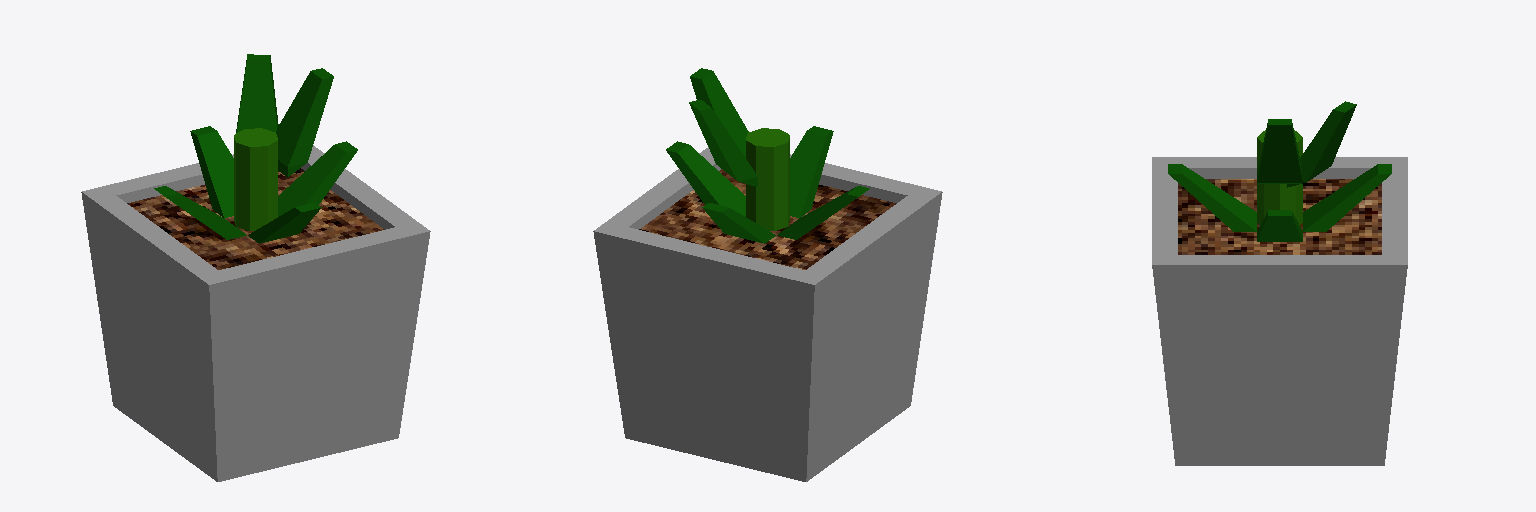
3 views of the same model, side by side, from view 1: azimuth 30°, elevation 25°; view 2: azimuth 150°, elevation 25°; view 3: azimuth 270°, elevation 25° (orthographic).
Parts seen in each view (by area): view 1: Cup_立方体, Soil_立方体.001, Stalk_円柱, 立方体.001_立方体.003, 立方体.003_立方体.006, 立方体.005_立方体.008, 立方体_立方体.002, 立方体.004_立方体.007, 立方体.002_立方体.005; view 2: Cup_立方体, Soil_立方体.001, Stalk_円柱, 立方体.004_立方体.007, 立方体_立方体.002, 立方体.005_立方体.008, 立方体.001_立方体.003, 立方体.003_立方体.006, 立方体.002_立方体.005; view 3: Cup_立方体, Soil_立方体.001, 立方体.001_立方体.003, 立方体.004_立方体.007, 立方体.003_立方体.006, 立方体.005_立方体.008, Stalk_円柱, 立方体_立方体.002.
Part boxes in pixels (bbox=[...]): Cup_立方体: bbox=[81, 145, 430, 481]; Soil_立方体.001: bbox=[127, 168, 384, 269]; Stalk_円柱: bbox=[234, 128, 277, 230]; 立方体.001_立方体.003: bbox=[276, 68, 333, 177]; 立方体.003_立方体.006: bbox=[190, 126, 233, 217]; 立方体.005_立方体.008: bbox=[236, 54, 278, 132]; 立方体_立方体.002: bbox=[278, 141, 357, 216]; 立方体.004_立方体.007: bbox=[248, 203, 321, 243]; 立方体.002_立方体.005: bbox=[154, 186, 246, 239]; Cup_立方体: bbox=[593, 147, 942, 481]; Soil_立方体.001: bbox=[639, 169, 896, 269]; Stalk_円柱: bbox=[746, 128, 789, 230]; 立方体.004_立方体.007: bbox=[790, 126, 833, 217]; 立方体_立方体.002: bbox=[666, 141, 745, 216]; 立方体.005_立方体.008: bbox=[689, 100, 757, 186]; 立方体.001_立方体.003: bbox=[690, 68, 748, 157]; 立方体.003_立方体.006: bbox=[702, 203, 775, 243]; 立方体.002_立方体.005: bbox=[777, 186, 869, 239]; Cup_立方体: bbox=[1152, 157, 1407, 465]; Soil_立方体.001: bbox=[1178, 179, 1381, 254]; 立方体.001_立方体.003: bbox=[1257, 119, 1302, 183]; 立方体.004_立方体.007: bbox=[1168, 164, 1256, 231]; 立方体.003_立方体.006: bbox=[1303, 164, 1391, 231]; 立方体.005_立方体.008: bbox=[1287, 101, 1356, 187]; Stalk_円柱: bbox=[1257, 130, 1302, 224]; 立方体_立方体.002: bbox=[1257, 210, 1302, 241].
Size of the model in its own units: 0.055 by 0.0788 by 0.055.
Materials: 4 (1 with a texture image).